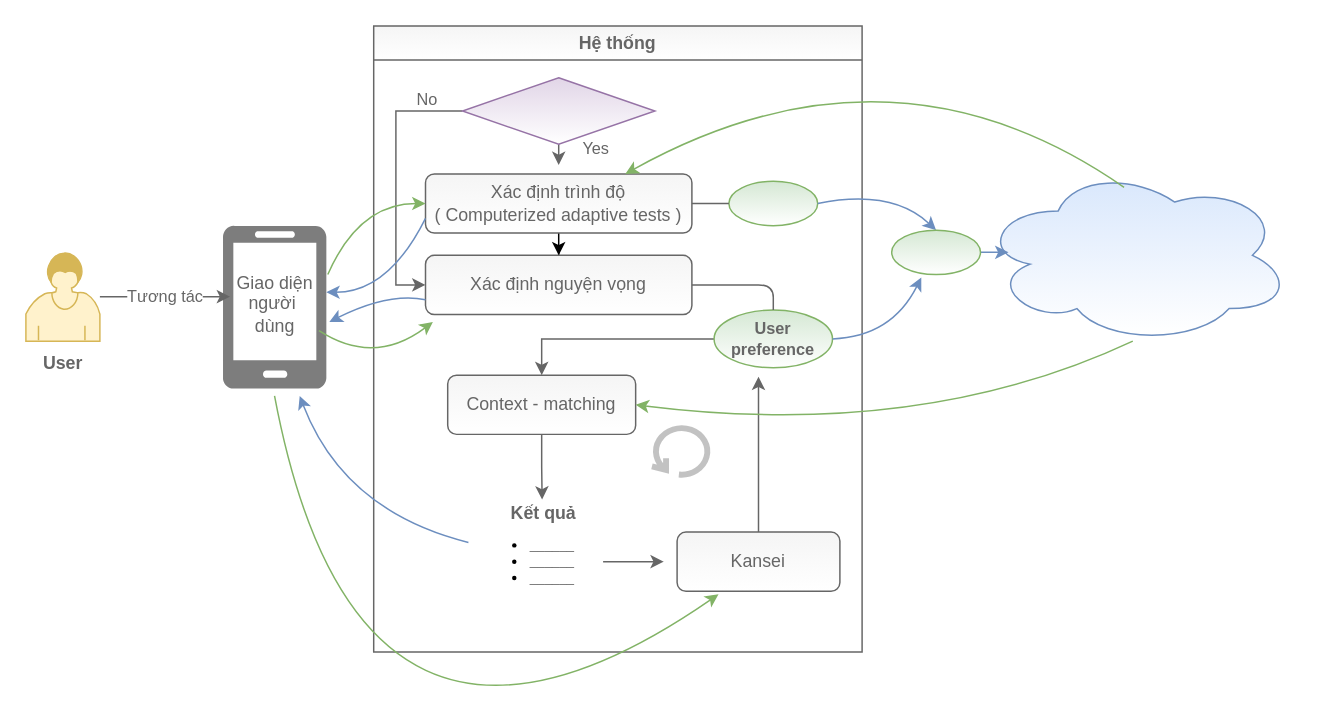
This 1317x712 diagram has some shape labels left out. Here are the shapes that lost their labels. From the top down, the centre of each, then its label:
At point (558, 110): "First time user".
At point (772, 203): "User level".
At point (935, 252): "User profile".
At point (1135, 254): "Cloud ( Firebase )".
